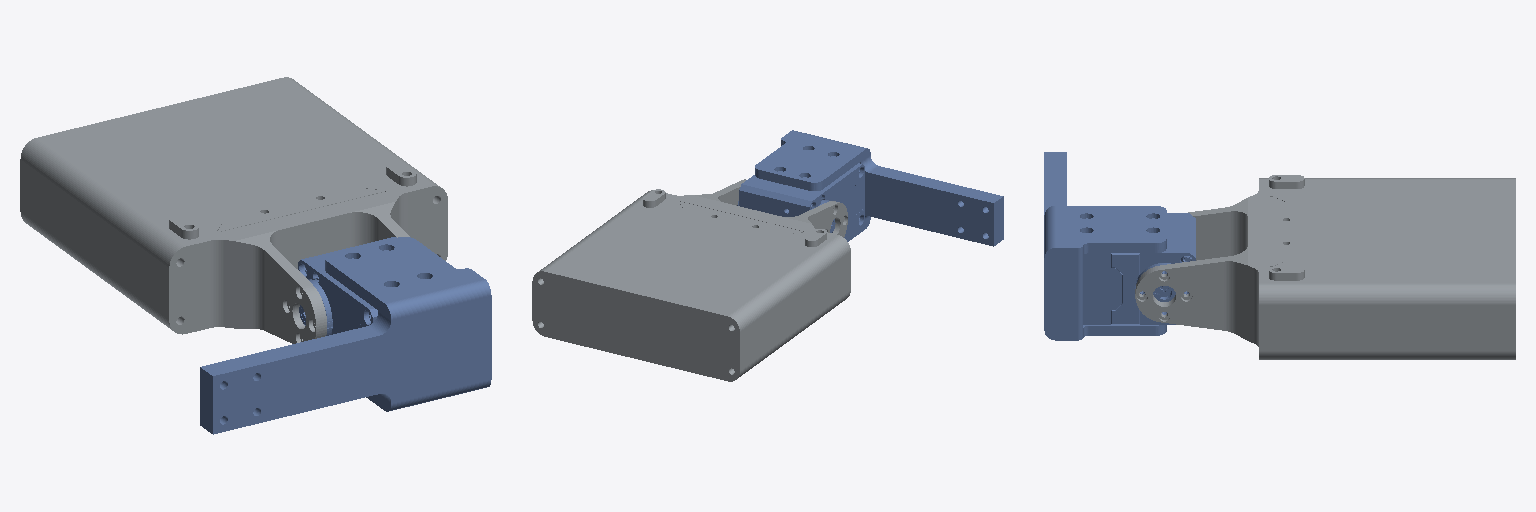
The robot description file, URDF, robot "sysID_XC430":
<?xml version="1.0" ?>
<robot name="sysID_XC430">
  <mujoco>
    <compiler strippath="false" balanceinertia="true" discardvisual="false"/>
  </mujoco>
  <link name="xc430">
    <visual>
      <origin xyz="0 0 0" rpy="0 -0 0"/>
      <geometry>
        <mesh filename="../assemblies/sysID_XC430/meshes/xc430_visual.stl"/>
      </geometry>
      <material name="xc430_material">
        <color rgba="0.44786462886842598463 0.53733448957467955243 0.69800988116095863401 1.0"/>
      </material>
    </visual>
    <inertial>
      <origin xyz="0.0709224439626469777 0.016712412139443660886 0.005543011911192575851" rpy="0 0 0"/>
      <mass value="0.086449999993020193445"/>
      <inertia ixx="2.7835937895289603625e-05" ixy="-5.7442278246997916427e-06" ixz="-3.9581376465514811914e-08" iyy="2.9061697096171224734e-05" iyz="-5.0973493978072746798e-08" izz="4.324213417779756573e-05"/>
    </inertial>
  </link>
  <link name="arm_430">
    <visual>
      <origin xyz="0 0 0" rpy="0 -0 0"/>
      <geometry>
        <mesh filename="../assemblies/sysID_XC430/meshes/arm_430_visual.stl"/>
      </geometry>
      <material name="arm_430_material">
        <color rgba="0.63059283987567626983 0.65298952457695413898 0.67418901807298270423 1.0"/>
      </material>
    </visual>
    <inertial>
      <origin xyz="-0.077790387031996310885 1.3637865612734206139e-05 -0.018999999999999978711" rpy="0 0 0"/>
      <mass value="0.25549999999999994937"/>
      <inertia ixx="0.00024426144376378929003" ixy="-9.401585883161292486e-08" ixz="5.3560758525686012555e-20" iyy="0.00041073874164067591128" iyz="1.4659063207649052332e-16" izz="0.00022084196523238823419"/>
    </inertial>
  </link>
  <joint name="joint_0" type="revolute">
    <origin xyz="0.054999999999999681088 0.032699857927858962114 0.0055693959459660142761" rpy="1.57079632679489678 -5.5511151231258061214e-17 -1.5707963267948972241"/>
    <parent link="xc430"/>
    <child link="arm_430"/>
    <axis xyz="0 0 1"/>
    <limit effort="1" velocity="20" lower="-1.570796326794896558" upper="1.570796326794896558"/>
    <joint_properties friction="0.0"/>
  </joint>
</robot>

--- Facts derived from the render (not from the file) ---
Views: 3 orthographic renders of the robot side by side, from view 1: azimuth 30°, elevation 25°; view 2: azimuth 150°, elevation 25°; view 3: azimuth 270°, elevation 25°.
Model sysID_XC430 with 2 links and 1 joints (1 revolute), rooted at xc430, posed all joints at 0.
Links seen in each view (by area): view 1: arm_430, xc430; view 2: arm_430, xc430; view 3: arm_430, xc430.
Boxes of the visible links, x1=… form: arm_430: x1=20, y1=77, x2=447, y2=343; xc430: x1=200, y1=237, x2=491, y2=434; arm_430: x1=532, y1=179, x2=850, y2=381; xc430: x1=737, y1=130, x2=1003, y2=246; arm_430: x1=1135, y1=175, x2=1515, y2=359; xc430: x1=1044, y1=152, x2=1195, y2=340.
Bounding box of the posed robot: 0.129 × 0.1697 × 0.0368 m (x, y, z).
Meshes: 2 distinct files referenced, 2 mesh visuals loaded (2 binary STL).